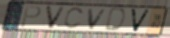C: (62, 7, 86, 30)
D: (103, 7, 128, 33)
P: (19, 6, 43, 29)
V: (129, 8, 152, 34), (45, 5, 67, 31), (87, 8, 109, 31)
